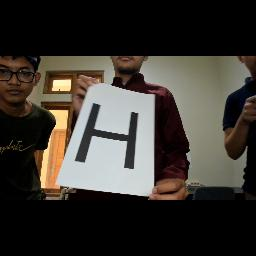h: (74, 101, 148, 173)
